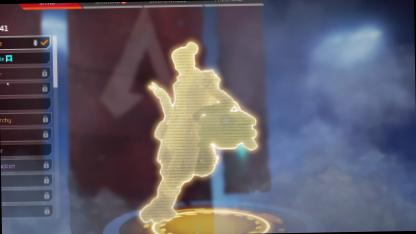Target: (148, 38, 230, 186)
